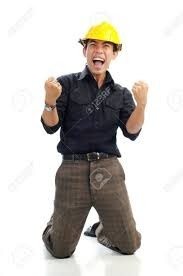helmet: (79, 20, 124, 53)
person with partial safety: (40, 20, 149, 261)
